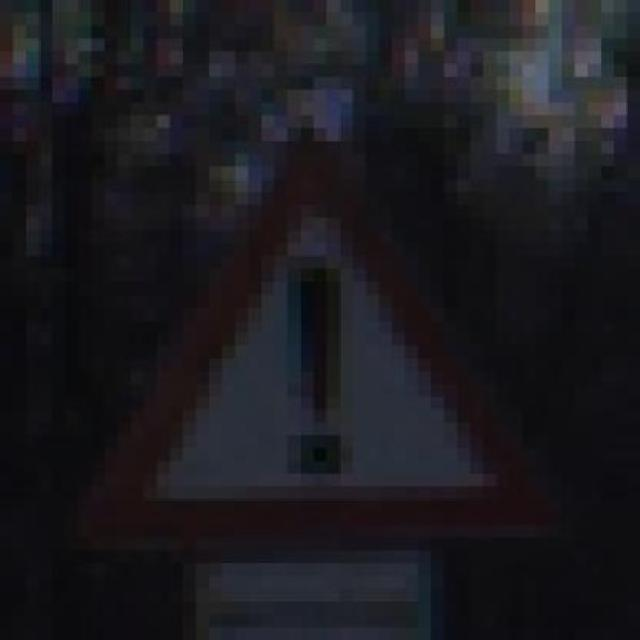Attention Please-: (90, 89, 562, 563)
